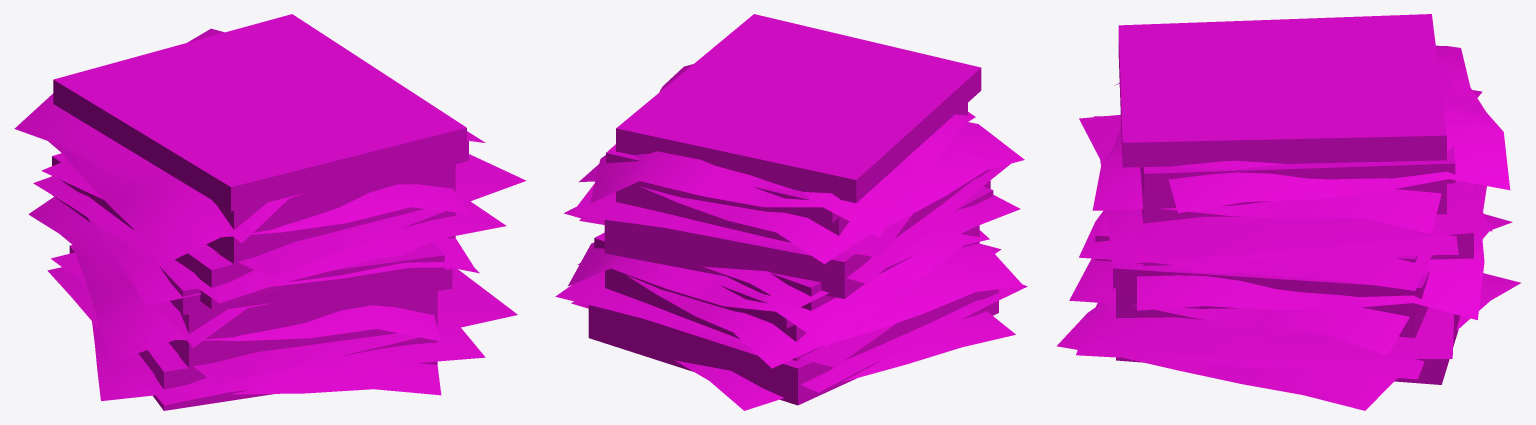
File: PaperStacks.fbx
3 views of the same model, side by side, from view 1: azimuth 30°, elevation 25°; view 2: azimuth 150°, elevation 25°; view 3: azimuth 270°, elevation 25° (orthographic). The views are drawn at different scales.
Parts seen in each view (by area): view 1: Stack_of_Papers; view 2: Stack_of_Papers; view 3: Stack_of_Papers.
Part boxes in pixels (box(x1,y1,x2,y2)): Stack_of_Papers: box(14, 14, 526, 410); Stack_of_Papers: box(555, 14, 1027, 410); Stack_of_Papers: box(1057, 14, 1521, 410).
Size of the model in its own units: 37.92 by 21.04 by 37.94.
